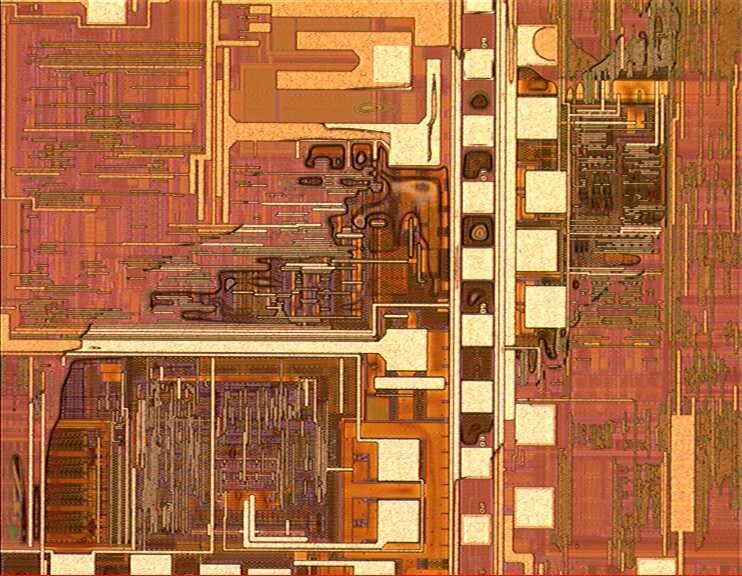BLOCK ETCH: (1, 1, 683, 576)
